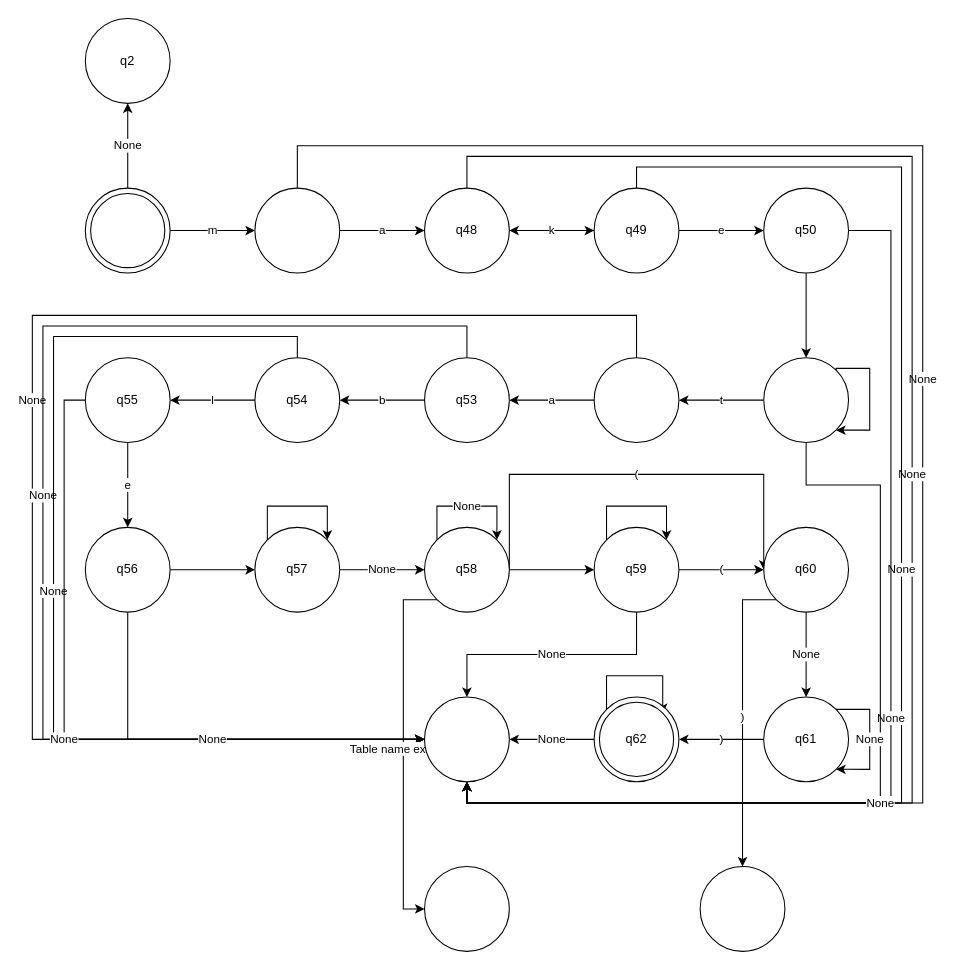
Image size: 954x970. Some labels were removed from this diagram. Each missing label, with the centre of its shape:
"q0" belongs at point (127, 230).
"q47" belongs at point (297, 230).
"q51" belongs at point (806, 400).
"q52" belongs at point (636, 400).
"q63" belongs at point (466, 739).
"q64" belongs at point (742, 908).
"q65" belongs at point (466, 908).
